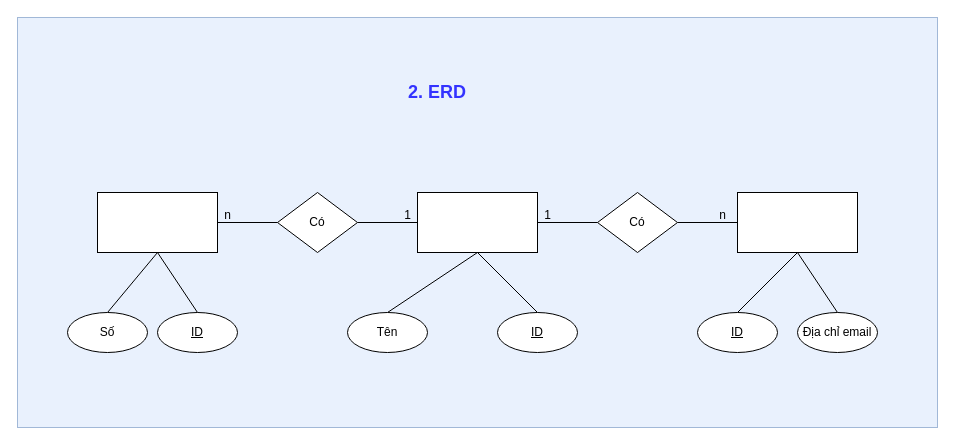
The diagram is 955 pixels wide and 445 high, and some of its shapes have lost their labels. Each missing label, with the centre of its shape:
"Email" belongs at (x=797, y=222).
"Người" belongs at (x=477, y=222).
"SĐT" belongs at (x=157, y=222).
